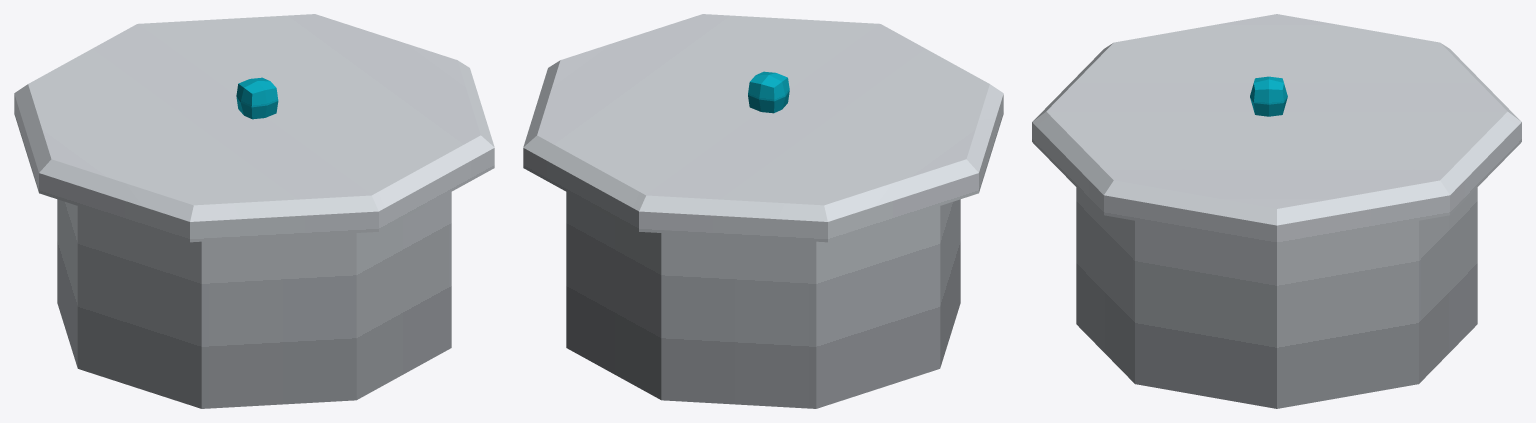
File: BigPot.fbx
3 renders of one model, left to right at view 1: azimuth 30°, elevation 25°; view 2: azimuth 150°, elevation 25°; view 3: azimuth 270°, elevation 25°, orthographic.
Visible parts, largest first — view 1: BigPot_v1; view 2: BigPot_v1; view 3: BigPot_v1.
Boxes of the visible parts, box(x1,y1,x2,y2) form: BigPot_v1: box(14, 14, 494, 408); BigPot_v1: box(523, 14, 1003, 408); BigPot_v1: box(1032, 14, 1521, 408).
Size of the model in its own units: 48.4 by 26.63 by 48.4.
